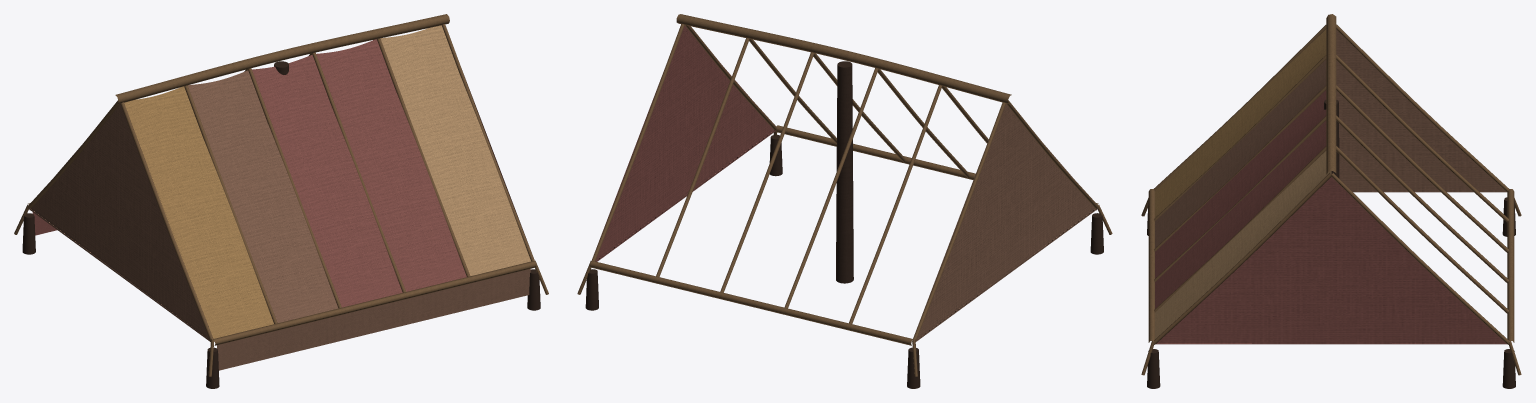
File: nomad_tent.glb
3 views of the same model, side by side, from view 1: azimuth 30°, elevation 25°; view 2: azimuth 150°, elevation 25°; view 3: azimuth 270°, elevation 25° (orthographic). The views are drawn at different scales.
Visible parts, largest first — view 1: nomad_tent; view 2: nomad_tent; view 3: nomad_tent.
Part boxes in pixels (box(x1,y1,x2,y2)): nomad_tent: box(14, 14, 548, 388); nomad_tent: box(577, 14, 1112, 388); nomad_tent: box(1141, 14, 1521, 388).
Size of the model in its own units: 2.8 by 1.8 by 2.8.
1 material, 1 textured.
